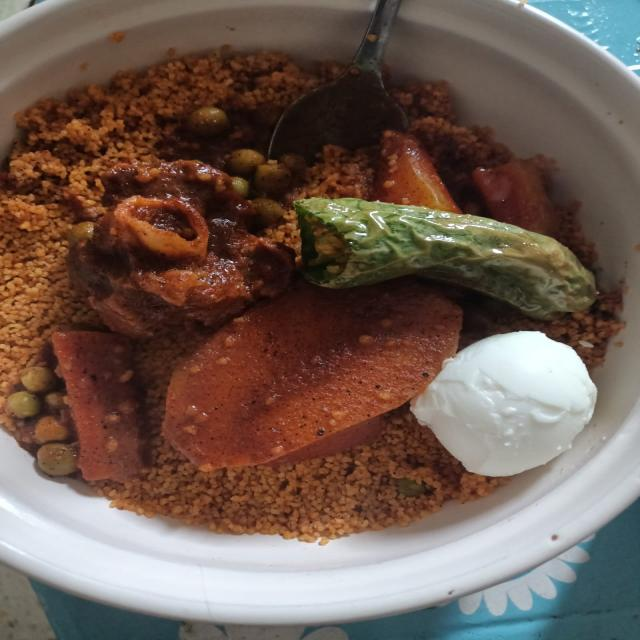Couscous: (0, 64, 594, 528)
